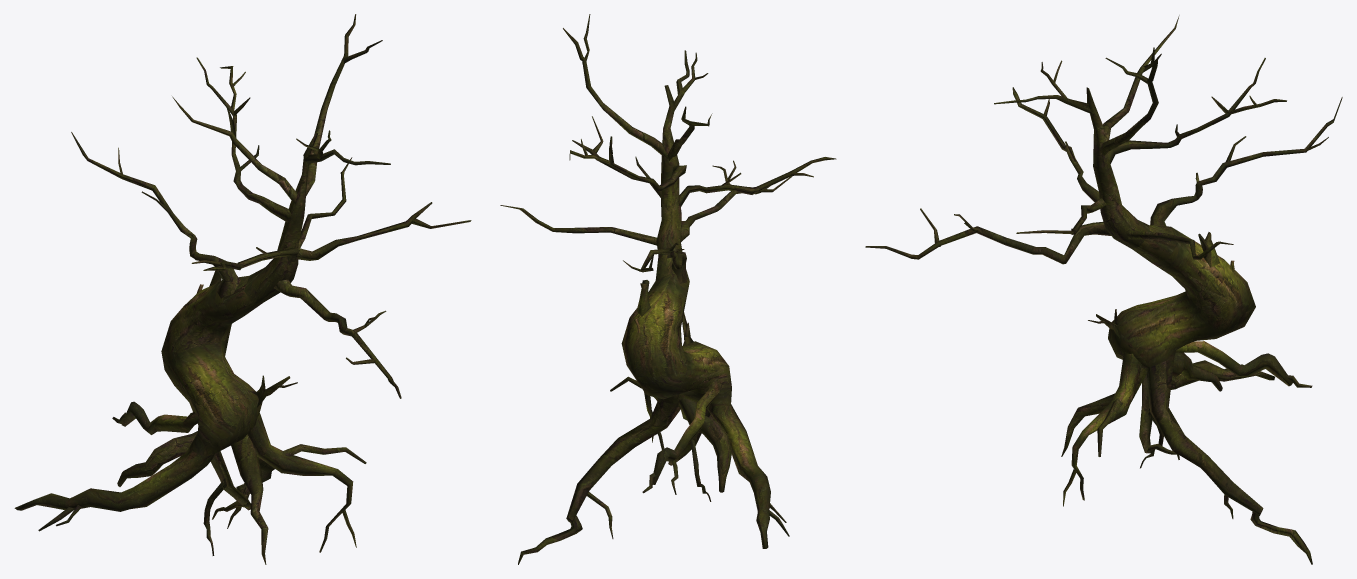
The picture shows the model from 3 angles, left to right: view 1: azimuth 30°, elevation 25°; view 2: azimuth 150°, elevation 25°; view 3: azimuth 270°, elevation 25°; orthographic projection. The views are drawn at different scales.
Parts seen in each view (by area): view 1: 53001_01; view 2: 53001_01; view 3: 53001_01.
Boxes of the visible parts, bbox=[...] form: 53001_01: bbox=[14, 14, 471, 564]; 53001_01: bbox=[500, 14, 836, 564]; 53001_01: bbox=[865, 15, 1342, 564].
Size of the model in its own units: 622 by 971 by 801.
